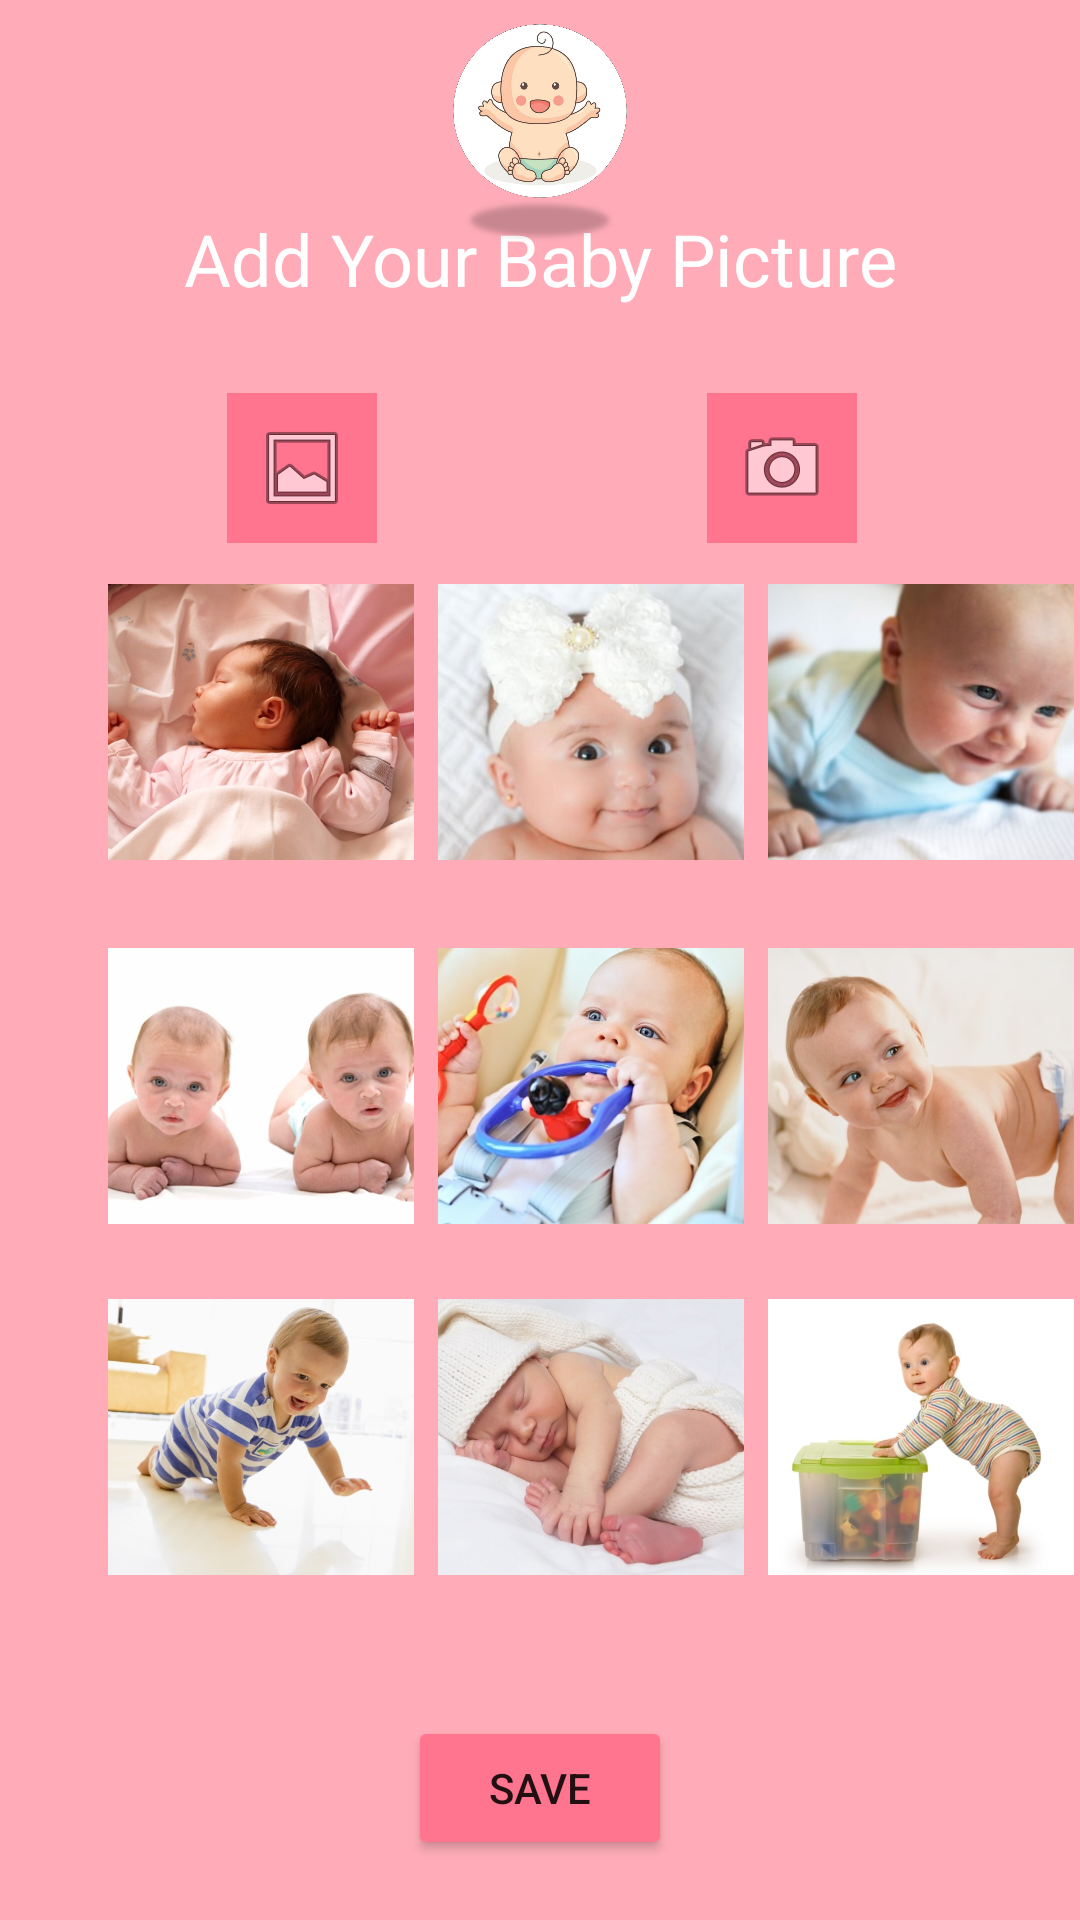

Screen size 1080px x 1920px. Icon name, then its box in pixels as [left=x1, top=y1, right=x2, bottom=y2]:
camera: [left=707, top=393, right=857, bottom=543]
gallery: [left=227, top=393, right=377, bottom=543]
